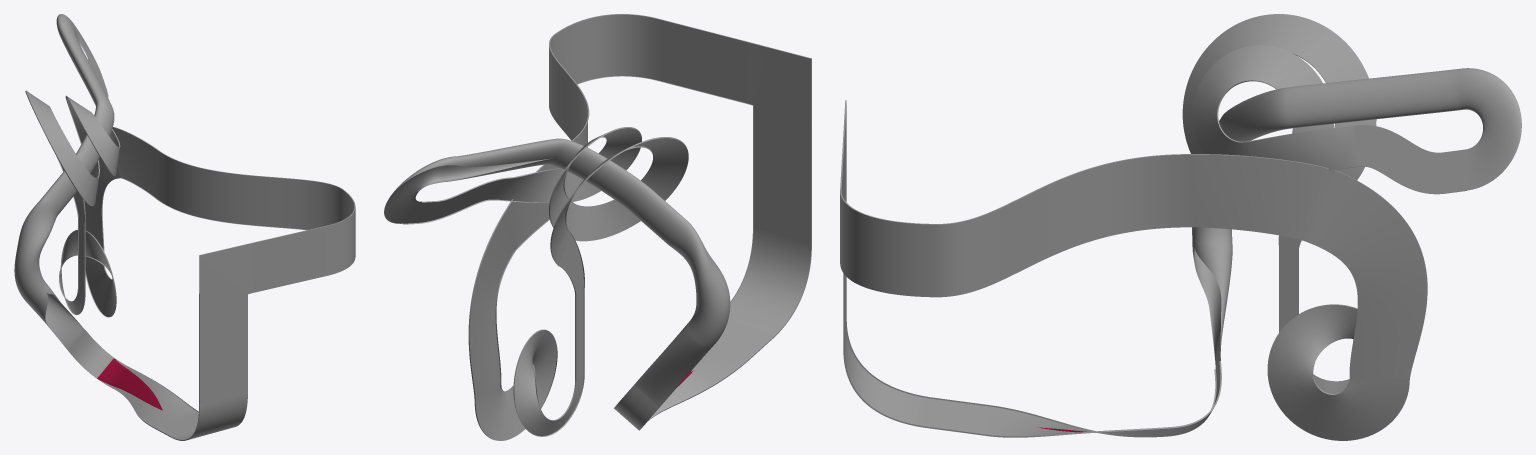
The model's file is Track_1.blend.obj.
3 renders of one model, left to right at view 1: azimuth 30°, elevation 25°; view 2: azimuth 150°, elevation 25°; view 3: azimuth 270°, elevation 25°, orthographic. The views are drawn at different scales.
Parts seen in each view (by area): view 1: MXTRoadSegment.064_PreviewMesh, MXTRoadSegment.051_PreviewMesh, MXTRoadSegment.061_PreviewMesh, MXTRoadSegment.007_PreviewMesh, MXTRoadSegment.067_PreviewMesh, MXTRoadSegment.040_PreviewMesh, MXTRoadSegment.070_PreviewMesh, MXTRoadSegment.058_PreviewMesh, MXTRoadSegment.080_PreviewMesh, MXTRoadSegment.075_PreviewMesh, MXTRoadSegment.043_PreviewMesh, MXTRoadSegment.030_PreviewMesh (+4 smaller); view 2: MXTRoadSegment.064_PreviewMesh, MXTRoadSegment.007_PreviewMesh, MXTRoadSegment.061_PreviewMesh, MXTRoadSegment.067_PreviewMesh, MXTRoadSegment.058_PreviewMesh, MXTRoadSegment.070_PreviewMesh, MXTRoadSegment.051_PreviewMesh, MXTRoadSegment.040_PreviewMesh, MXTRoadSegment.034_PreviewMesh, MXTRoadSegment.030_PreviewMesh, MXTRoadSegment.043_PreviewMesh, MXTRoadSegment.075_PreviewMesh (+6 smaller); view 3: MXTRoadSegment.064_PreviewMesh, MXTRoadSegment.067_PreviewMesh, MXTRoadSegment.007_PreviewMesh, MXTRoadSegment.070_PreviewMesh, MXTRoadSegment.030_PreviewMesh, MXTRoadSegment.024_PreviewMesh, MXTRoadSegment.051_PreviewMesh, MXTRoadSegment.015_PreviewMesh, MXTRoadSegment.012_PreviewMesh, MXTRoadSegment.058_PreviewMesh, MXTRoadSegment.043_PreviewMesh, MXTRoadSegment.034_PreviewMesh (+3 smaller).
Boxes of the visible parts, left/top/right/bottom form: MXTRoadSegment.064_PreviewMesh: left=156, top=149, right=355, bottom=292; MXTRoadSegment.051_PreviewMesh: left=68, top=330, right=198, bottom=437; MXTRoadSegment.061_PreviewMesh: left=199, top=300, right=247, bottom=404; MXTRoadSegment.007_PreviewMesh: left=25, top=90, right=120, bottom=206; MXTRoadSegment.067_PreviewMesh: left=84, top=127, right=156, bottom=251; MXTRoadSegment.040_PreviewMesh: left=14, top=198, right=57, bottom=303; MXTRoadSegment.070_PreviewMesh: left=59, top=229, right=116, bottom=317; MXTRoadSegment.058_PreviewMesh: left=171, top=393, right=247, bottom=440; MXTRoadSegment.080_PreviewMesh: left=199, top=242, right=253, bottom=294; MXTRoadSegment.075_PreviewMesh: left=199, top=255, right=247, bottom=311; MXTRoadSegment.043_PreviewMesh: left=26, top=284, right=84, bottom=349; MXTRoadSegment.030_PreviewMesh: left=58, top=25, right=111, bottom=105; MXTRoadSegment.064_PreviewMesh: left=549, top=14, right=746, bottom=202; MXTRoadSegment.007_PreviewMesh: left=549, top=127, right=688, bottom=266; MXTRoadSegment.061_PreviewMesh: left=753, top=112, right=811, bottom=243; MXTRoadSegment.067_PreviewMesh: left=468, top=164, right=559, bottom=401; MXTRoadSegment.058_PreviewMesh: left=727, top=228, right=811, bottom=337; MXTRoadSegment.070_PreviewMesh: left=474, top=329, right=584, bottom=440; MXTRoadSegment.051_PreviewMesh: left=614, top=323, right=773, bottom=430; MXTRoadSegment.040_PreviewMesh: left=667, top=221, right=730, bottom=346; MXTRoadSegment.034_PreviewMesh: left=542, top=138, right=651, bottom=212; MXTRoadSegment.030_PreviewMesh: left=439, top=138, right=562, bottom=181; MXTRoadSegment.043_PreviewMesh: left=634, top=323, right=713, bottom=407; MXTRoadSegment.075_PreviewMesh: left=753, top=58, right=811, bottom=127; MXTRoadSegment.064_PreviewMesh: left=840, top=137, right=1194, bottom=297; MXTRoadSegment.067_PreviewMesh: left=1194, top=154, right=1427, bottom=379; MXTRoadSegment.007_PreviewMesh: left=1182, top=14, right=1376, bottom=180; MXTRoadSegment.070_PreviewMesh: left=1267, top=304, right=1409, bottom=440; MXTRoadSegment.030_PreviewMesh: left=1284, top=68, right=1462, bottom=128; MXTRoadSegment.024_PreviewMesh: left=1458, top=68, right=1521, bottom=190; MXTRoadSegment.051_PreviewMesh: left=929, top=361, right=1221, bottom=437; MXTRoadSegment.015_PreviewMesh: left=1356, top=125, right=1445, bottom=194; MXTRoadSegment.012_PreviewMesh: left=1245, top=125, right=1358, bottom=170; MXTRoadSegment.058_PreviewMesh: left=843, top=317, right=931, bottom=428; MXTRoadSegment.043_PreviewMesh: left=1192, top=243, right=1232, bottom=368; MXTRoadSegment.034_PreviewMesh: left=1219, top=87, right=1288, bottom=141.
Bounding box in the file's own units: 1761 × 2010 × 3061.
